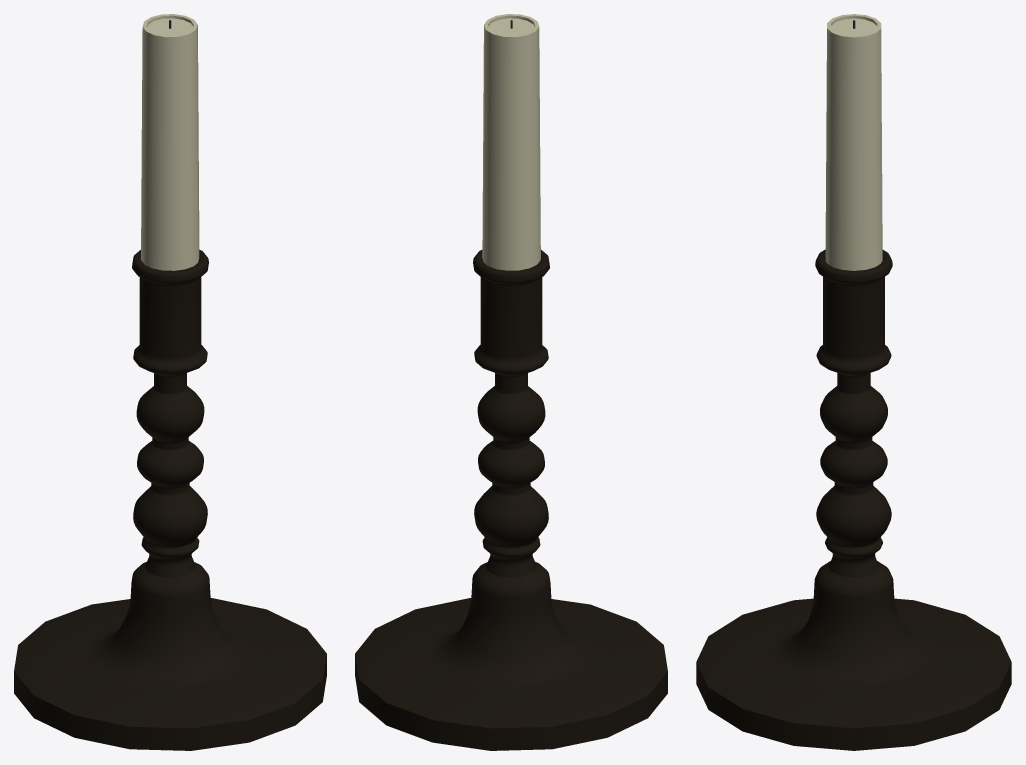
The model's file is CandleLight_01.fbx.
The picture shows the model from 3 angles, left to right: view 1: azimuth 30°, elevation 25°; view 2: azimuth 150°, elevation 25°; view 3: azimuth 270°, elevation 25°; orthographic projection.
Visible parts, largest first — view 1: Line003; view 2: Line003; view 3: Line003.
Part boxes in pixels (bbox=[...]): Line003: bbox=[14, 14, 326, 750]; Line003: bbox=[355, 14, 667, 750]; Line003: bbox=[696, 14, 1011, 750].
Bounding box in the file's own units: 16.97 × 39.42 × 16.97.
